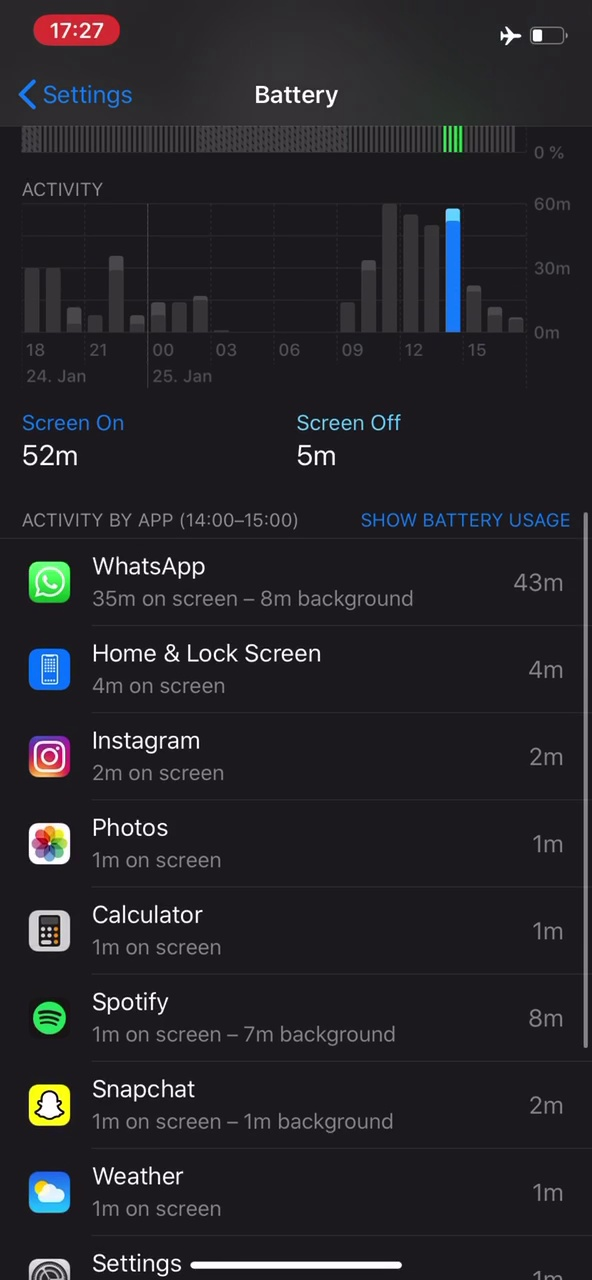activity: (14, 491, 314, 539)
app: (14, 539, 576, 619), (10, 626, 572, 706), (11, 714, 573, 794), (12, 801, 574, 881), (10, 893, 572, 973), (11, 980, 573, 1060), (14, 1070, 576, 1150), (16, 1161, 578, 1241)
